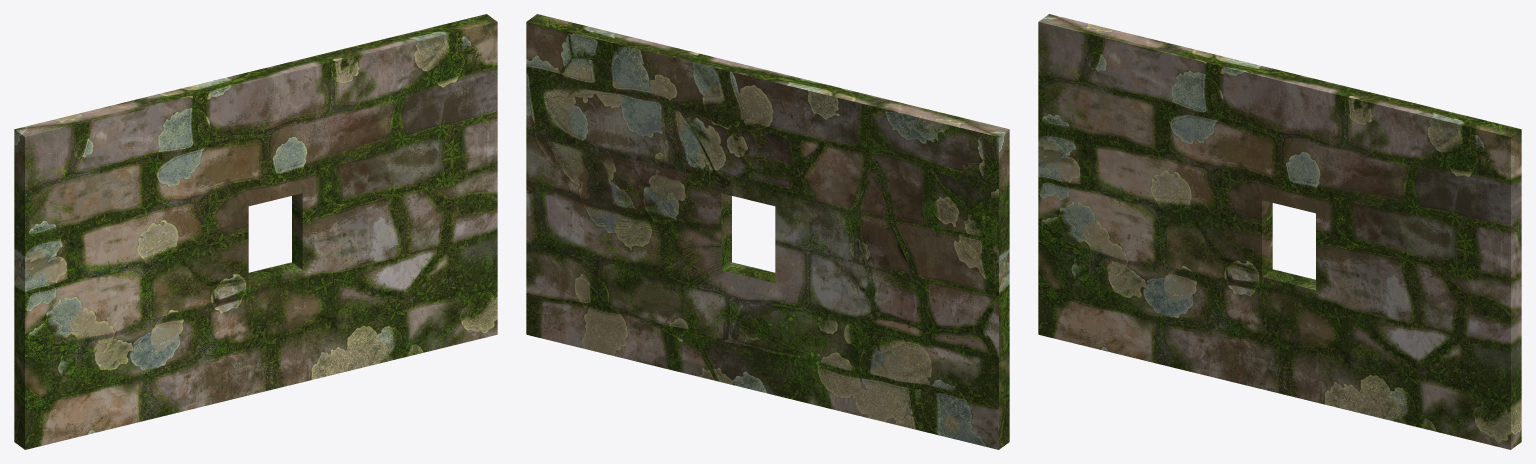
File: SM_WallWindow01.fbx
3 views of the same model, side by side, from view 1: azimuth 30°, elevation 25°; view 2: azimuth 150°, elevation 25°; view 3: azimuth 330°, elevation 25° (orthographic).
Parts seen in each view (by area): view 1: SM_WallWindow01_LOD0; view 2: SM_WallWindow01_LOD0; view 3: SM_WallWindow01_LOD0.
Boxes of the visible parts, box(x1,y1,x2,y2) form: SM_WallWindow01_LOD0: box(14, 14, 497, 449); SM_WallWindow01_LOD0: box(526, 14, 1009, 449); SM_WallWindow01_LOD0: box(1038, 14, 1521, 449).
Bounding box in the file's own units: 703 × 27.61 × 445.
1 material, 1 textured.
